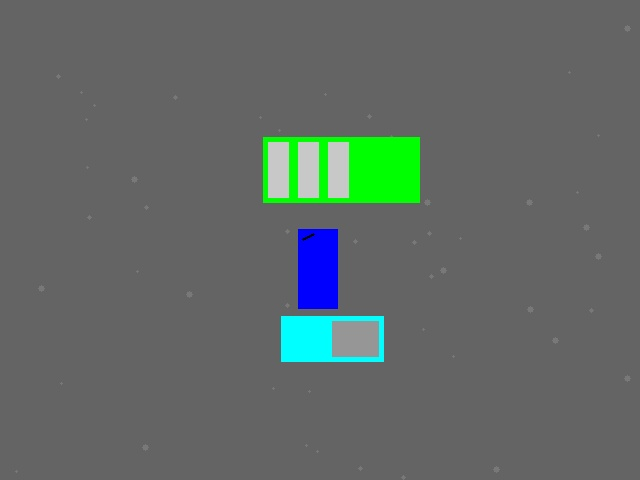bus: (263, 137, 419, 202)
motorcycle: (298, 229, 337, 308)
truck: (281, 316, 383, 361)
